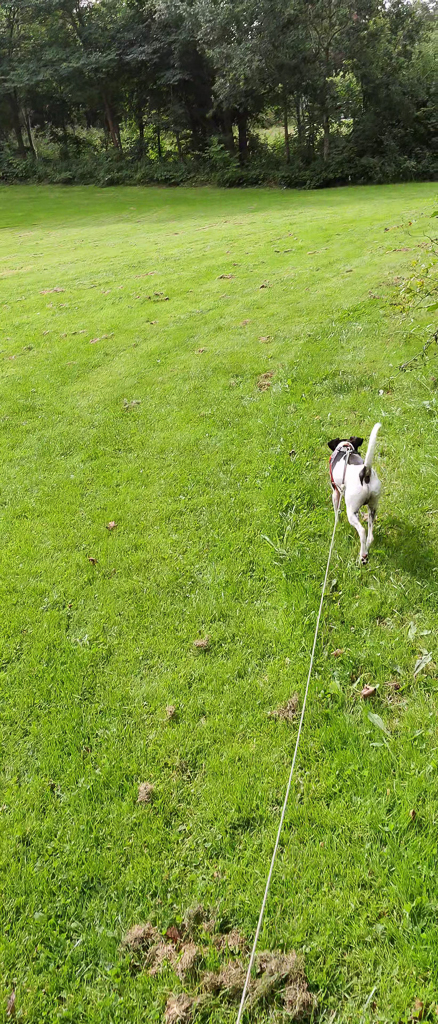Dog: (319, 418, 390, 576)
